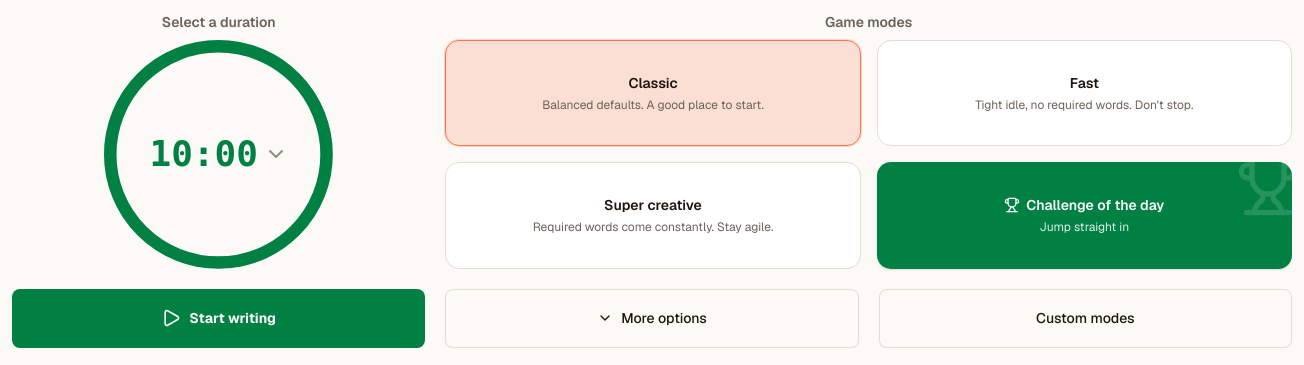
Scenario: SessionLauncher › flips the grid between default and custom modes
Click the button "Custom modes": x=1085, y=318 [879, 289, 1292, 348]
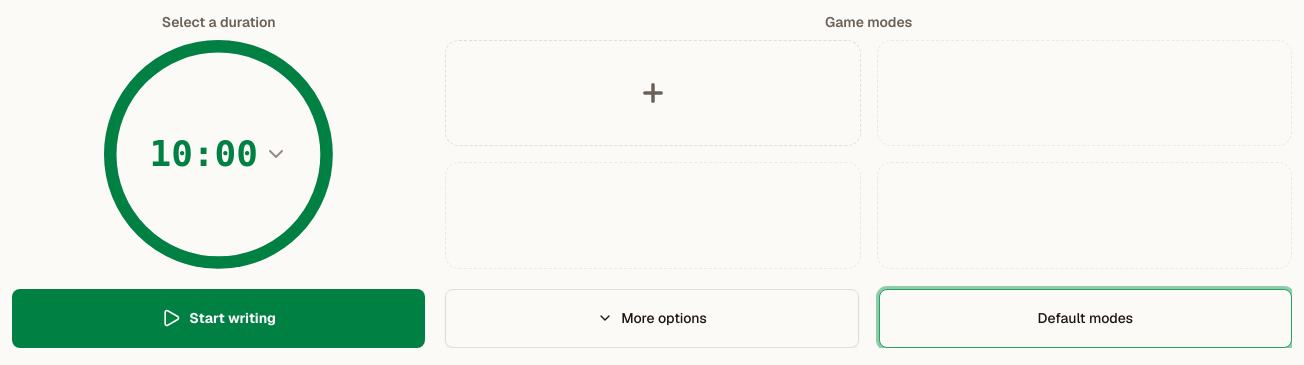
Now the button "Classic" is gone
Now the button "Challenge of the day" is gone
Now the button named "save current settings" is shown, box [445, 40, 861, 146]
Click the button "Default modes": x=1085, y=318 [879, 289, 1292, 348]
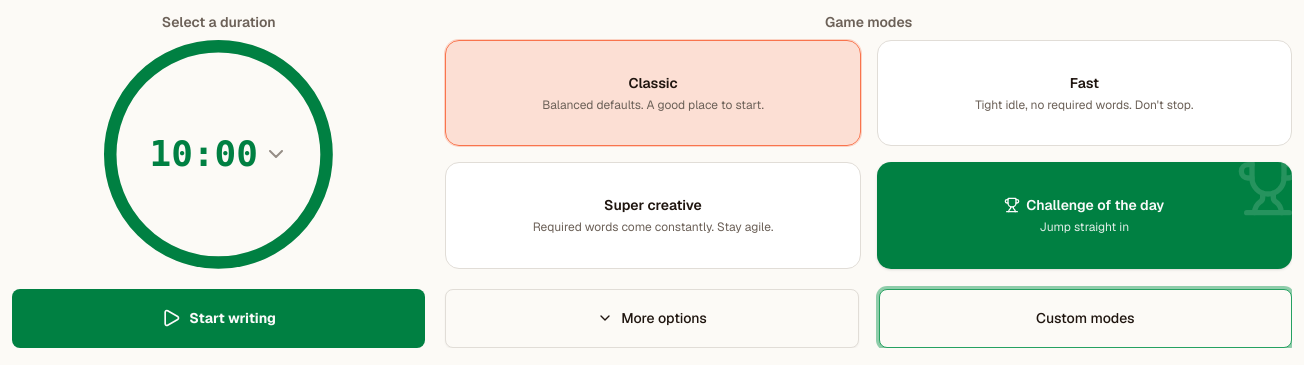
Now the button "Classic Balanced defaults. A good place to start." is shown, box [445, 40, 861, 146]
